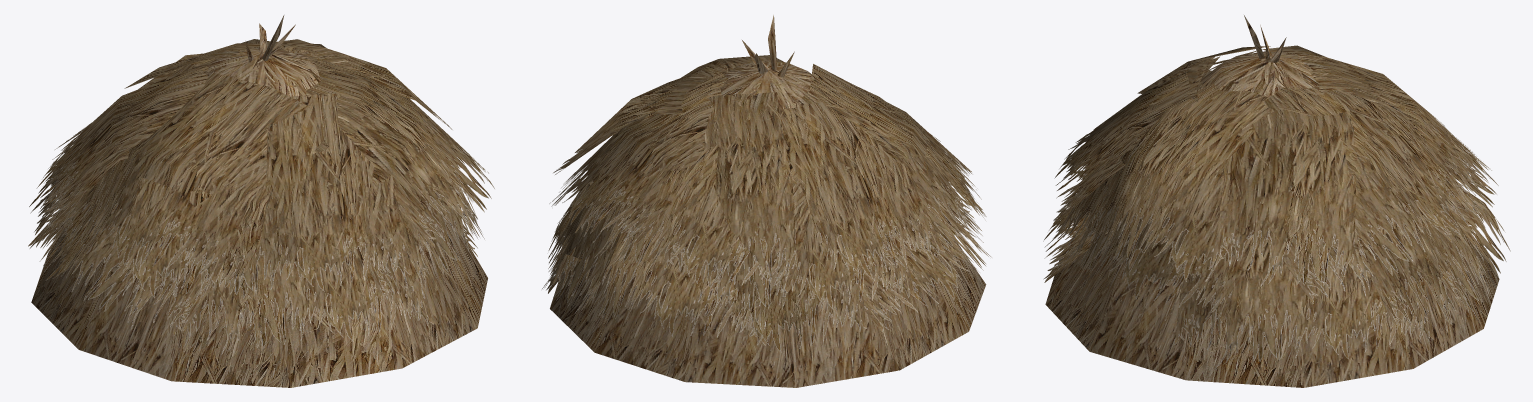
Rendered from Cover_Cd02b.glb.
3 renders of one model, left to right at view 1: azimuth 30°, elevation 25°; view 2: azimuth 150°, elevation 25°; view 3: azimuth 270°, elevation 25°, orthographic. The views are drawn at different scales.
Visible parts, largest first — view 1: xiutz_cd_02b_0; view 2: xiutz_cd_02b_0; view 3: xiutz_cd_02b_0.
Part boxes in pixels (x1=…): xiutz_cd_02b_0: x1=28, y1=15, x2=494, y2=387; xiutz_cd_02b_0: x1=542, y1=15, x2=991, y2=387; xiutz_cd_02b_0: x1=1043, y1=15, x2=1510, y2=387.
Size of the model in its own units: 3.24 by 2.06 by 3.24.
Materials: 2 (2 with a texture image).
